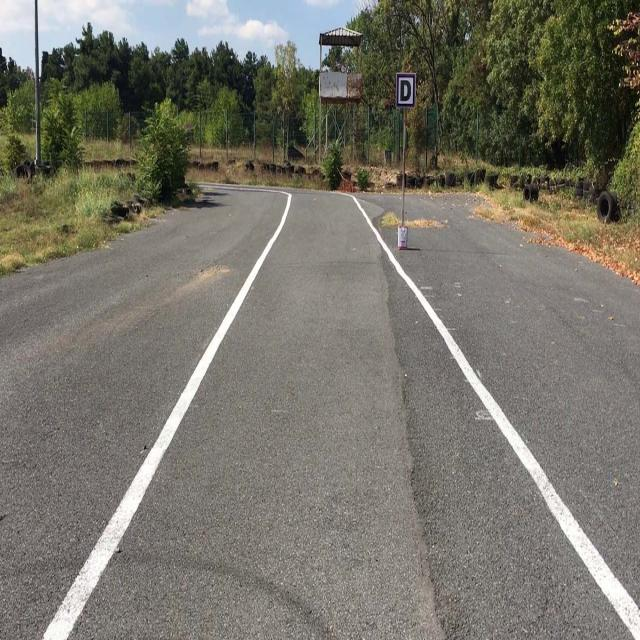durak: (397, 74, 415, 108)
